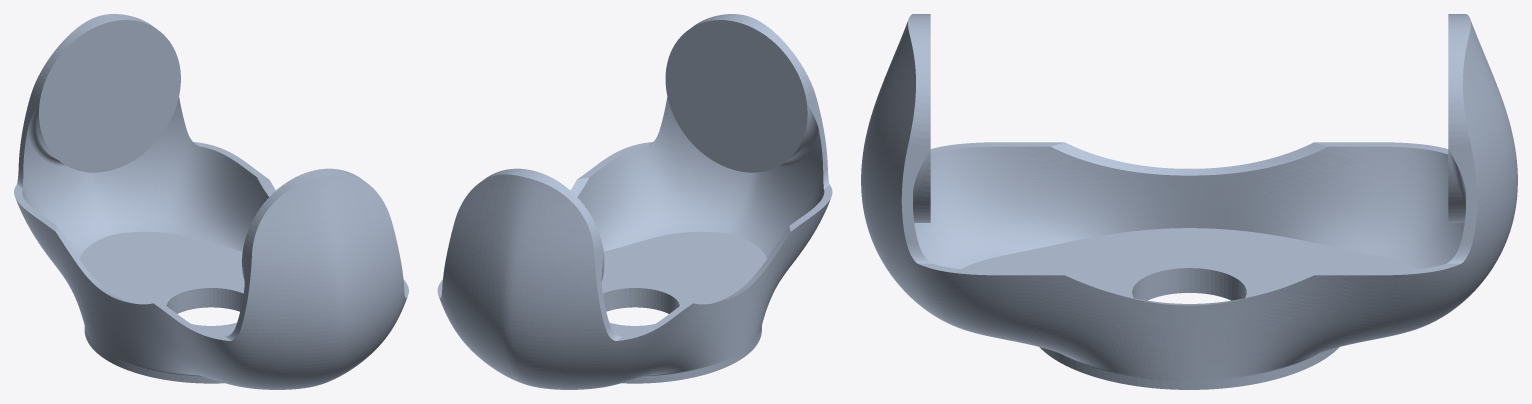
3 renders of one model, left to right at view 1: azimuth 30°, elevation 25°; view 2: azimuth 150°, elevation 25°; view 3: azimuth 270°, elevation 25°, orthographic. The views are drawn at different scales.
Parts seen in each view (by area): view 1: UArm-V3.6-Shoulder-simplified; view 2: UArm-V3.6-Shoulder-simplified; view 3: UArm-V3.6-Shoulder-simplified.
Boxes of the visible parts, box(x1,y1,x2,y2) form: UArm-V3.6-Shoulder-simplified: box(14, 14, 408, 389); UArm-V3.6-Shoulder-simplified: box(437, 14, 832, 389); UArm-V3.6-Shoulder-simplified: box(861, 14, 1517, 389).
Bounding box in the file's own units: 0.065 × 0.1319 × 0.066.
